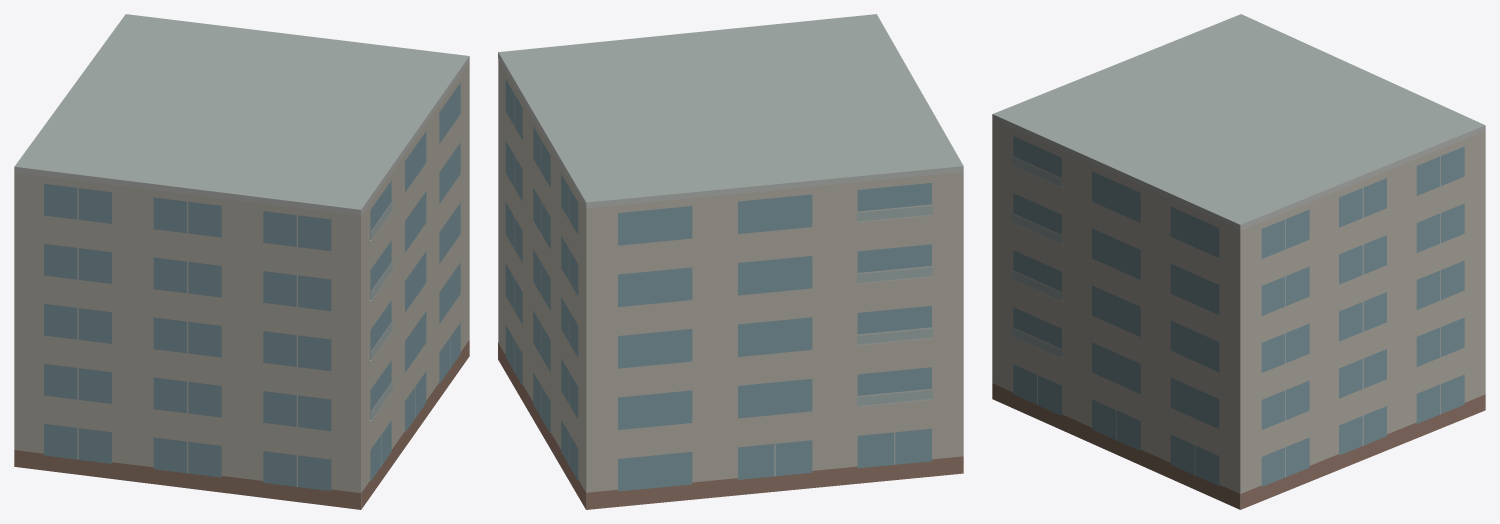
Rendered from survey-upis-32892713.glb.
3 renders of one model, left to right at view 1: azimuth 30°, elevation 25°; view 2: azimuth 150°, elevation 25°; view 3: azimuth 270°, elevation 25°, orthographic. The views are drawn at different scales.
Visible parts, largest first — view 1: survey-upis-32892713.tmp; view 2: survey-upis-32892713.tmp; view 3: survey-upis-32892713.tmp.
Boxes of the visible parts, x1,y1,x2,y2 form: survey-upis-32892713.tmp: (14, 14, 469, 509); survey-upis-32892713.tmp: (498, 14, 963, 509); survey-upis-32892713.tmp: (992, 14, 1485, 509).
Size of the model in its own units: 20.16 by 12.7 by 19.92.
